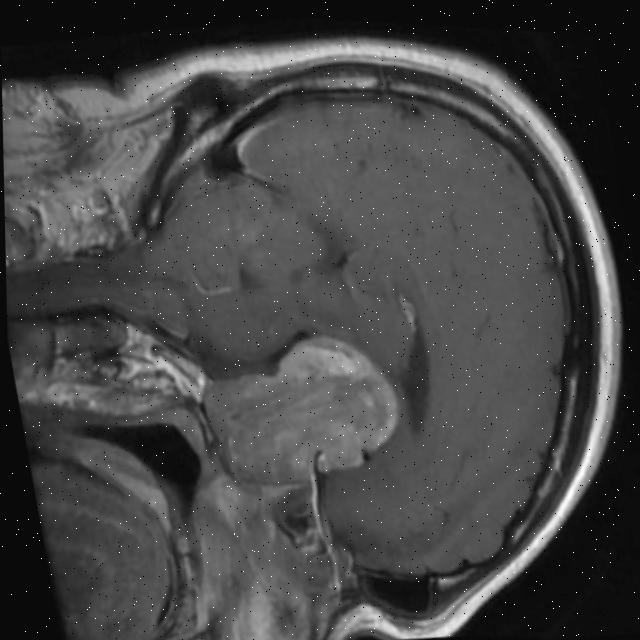Pituitary: (194, 317, 409, 495)
